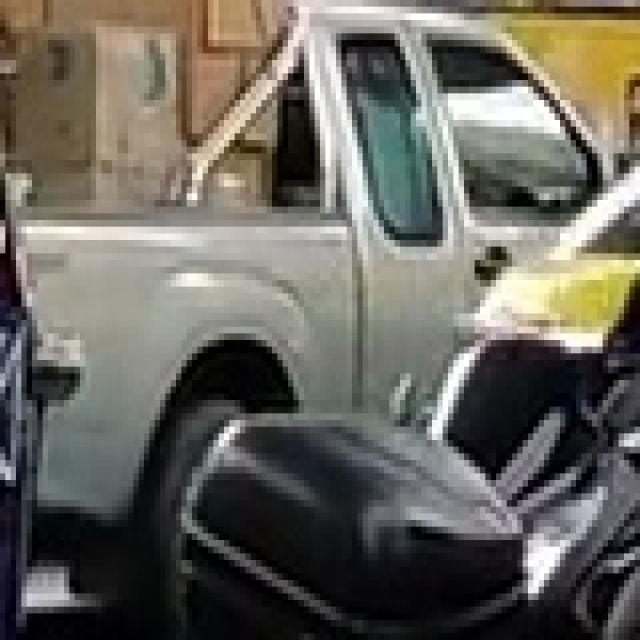door: (331, 20, 458, 427)
